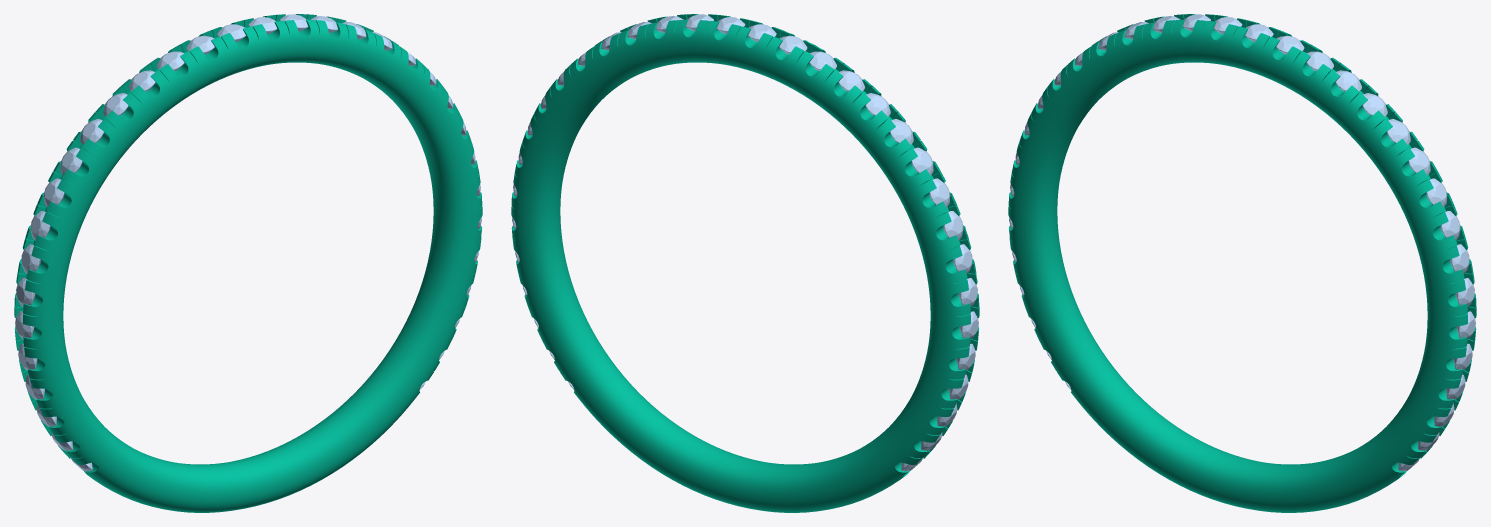
3 views of the same model, side by side, from view 1: azimuth 30°, elevation 25°; view 2: azimuth 150°, elevation 25°; view 3: azimuth 330°, elevation 25° (orthographic).
Visible parts, largest first — view 1: VRBAND 1.50 MM 75(front).3dm; view 2: VRBAND 1.50 MM 75(front).3dm; view 3: VRBAND 1.50 MM 75(front).3dm.
Part boxes in pixels (left/top/right/bottom): VRBAND 1.50 MM 75(front).3dm: left=14, top=14, right=482, bottom=512; VRBAND 1.50 MM 75(front).3dm: left=511, top=14, right=979, bottom=512; VRBAND 1.50 MM 75(front).3dm: left=1008, top=14, right=1476, bottom=512.
Bounding box in the file's own units: 2.82 × 2.83 × 0.2547.
